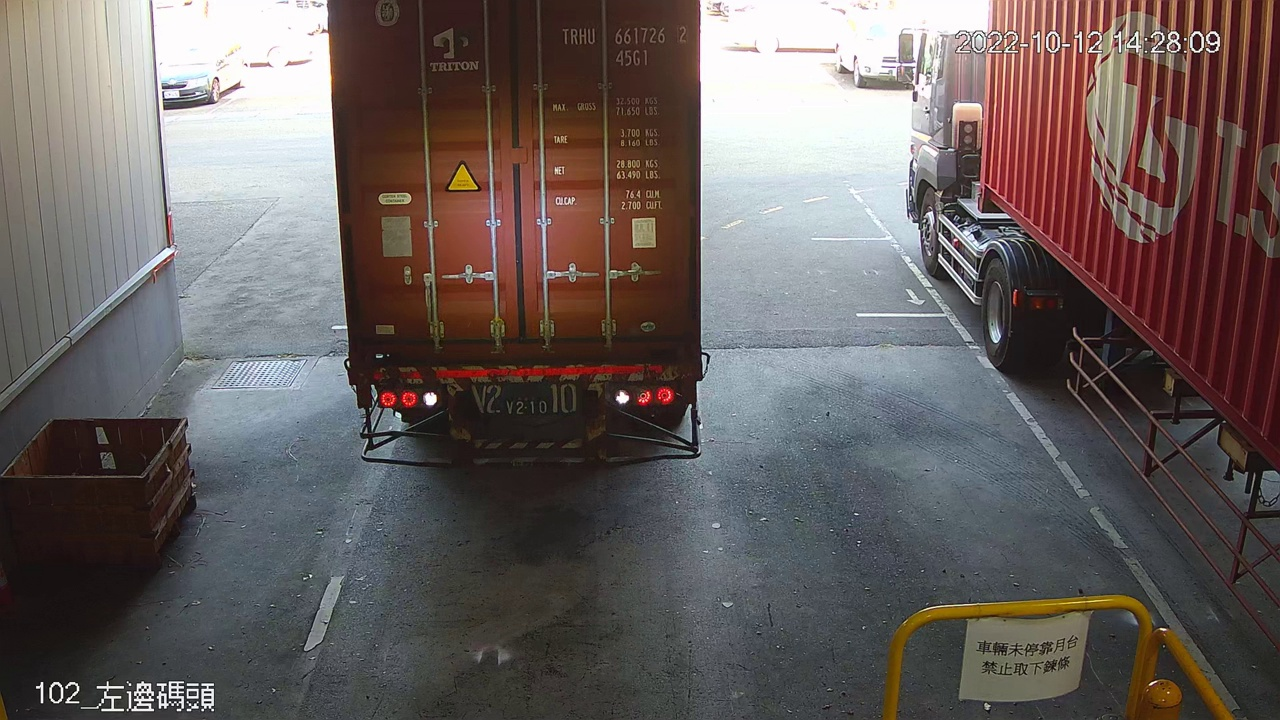container: (554, 19, 694, 70)
